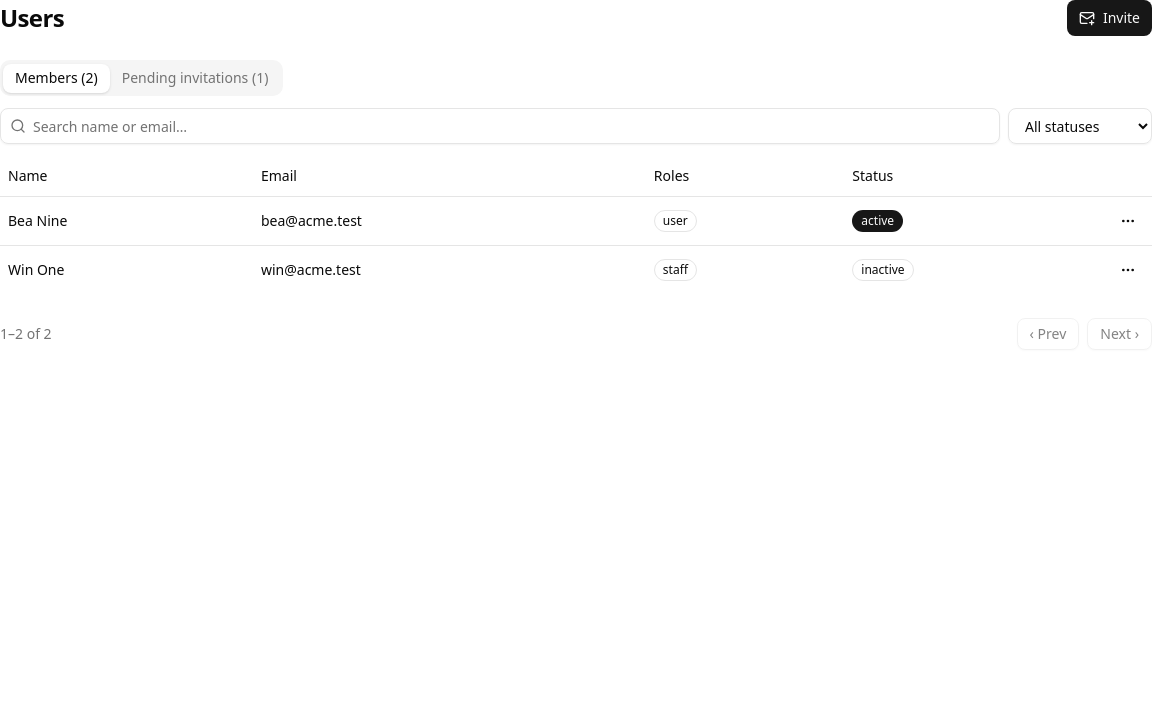
Test: Users page › deactivate asks first; inactive members get Activate
Click the button named "Actions for Bea Nine" at {"x": 1128, "y": 220}, box [1112,204,1144,236]
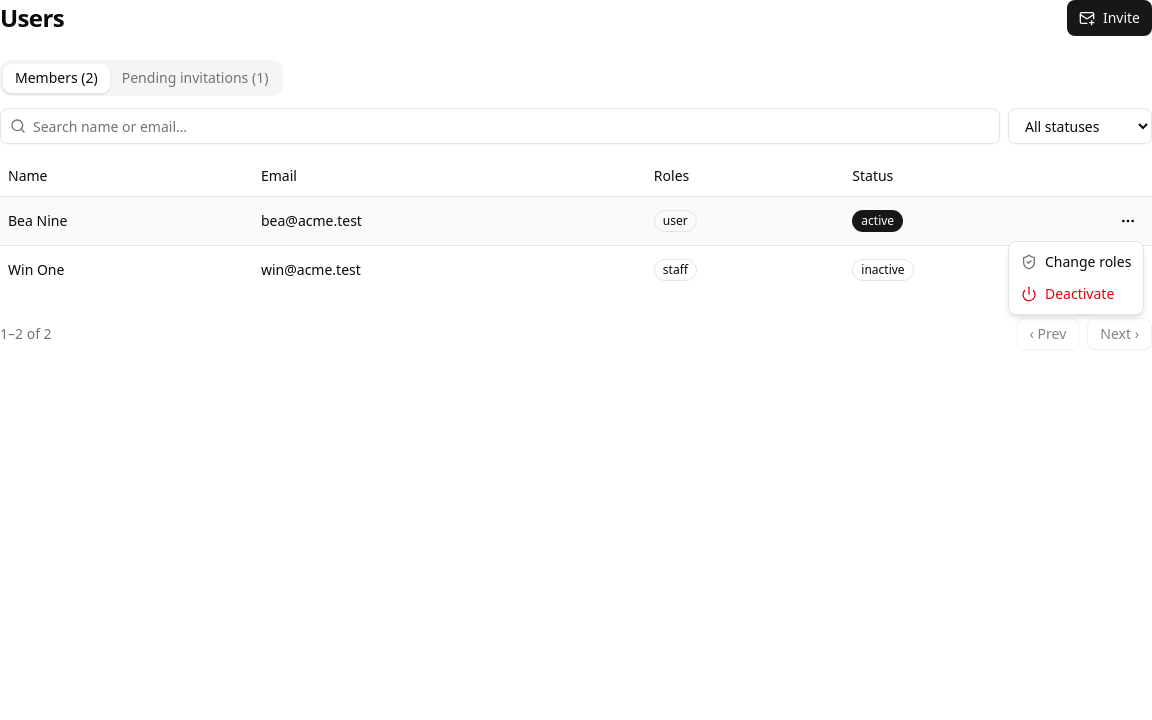
Click the menu item "Deactivate" at {"x": 1068, "y": 294}, box [1021,284,1114,303]
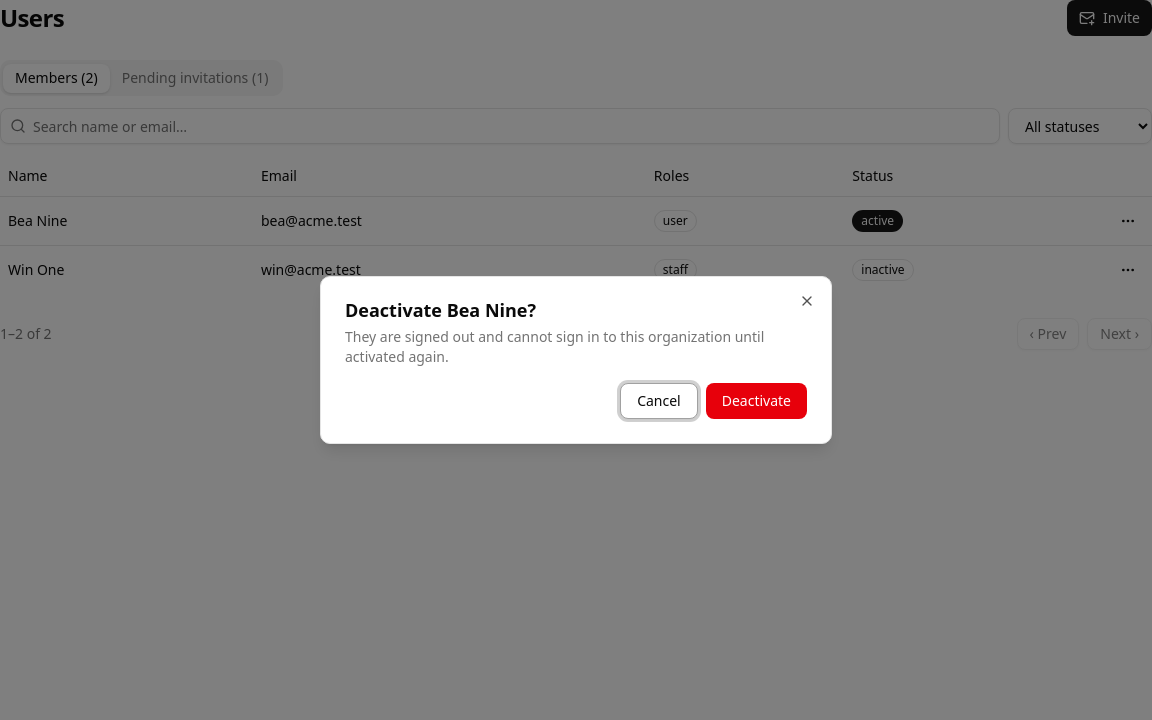
Click the button "Deactivate" at {"x": 756, "y": 401}, box [706,383,807,419]
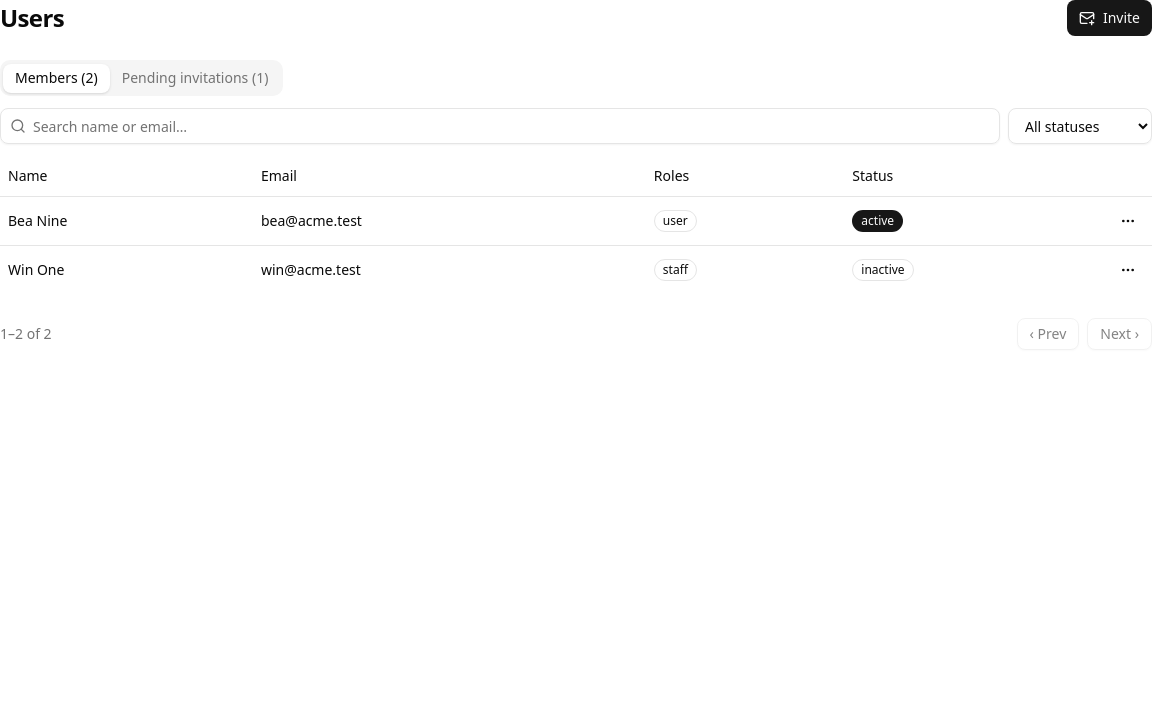
Click the button named "Actions for Win One" at {"x": 1128, "y": 270}, box [1112,254,1144,286]
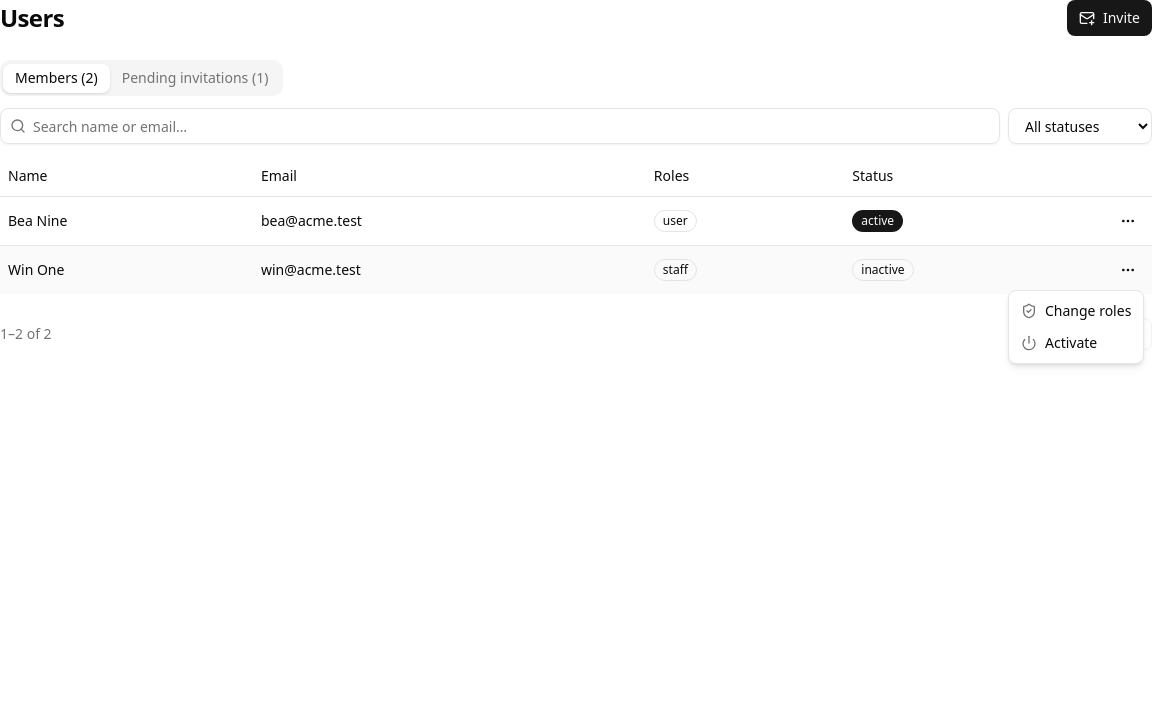
expect the menu item "Activate" is shown: met, box [1021,333,1097,352]
